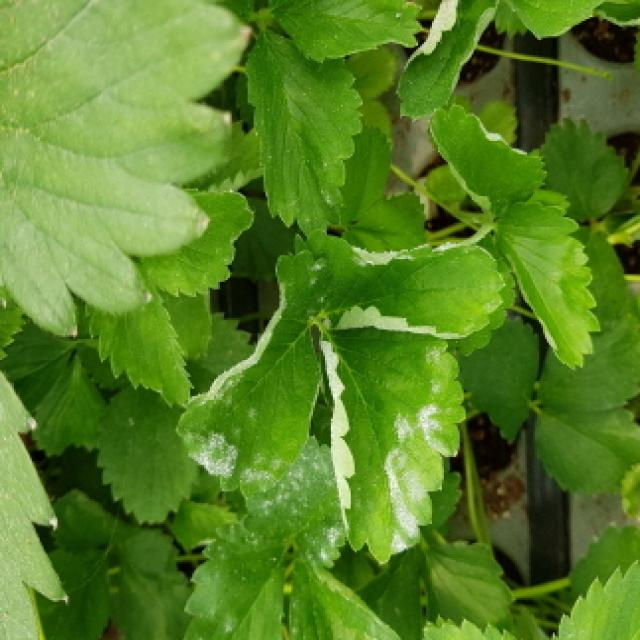Powdery Mildew Leaf: (177, 250, 332, 494), (318, 327, 470, 566), (294, 233, 510, 341), (237, 435, 350, 568), (427, 103, 546, 225), (181, 520, 291, 640), (396, 0, 500, 123), (289, 545, 407, 640)
